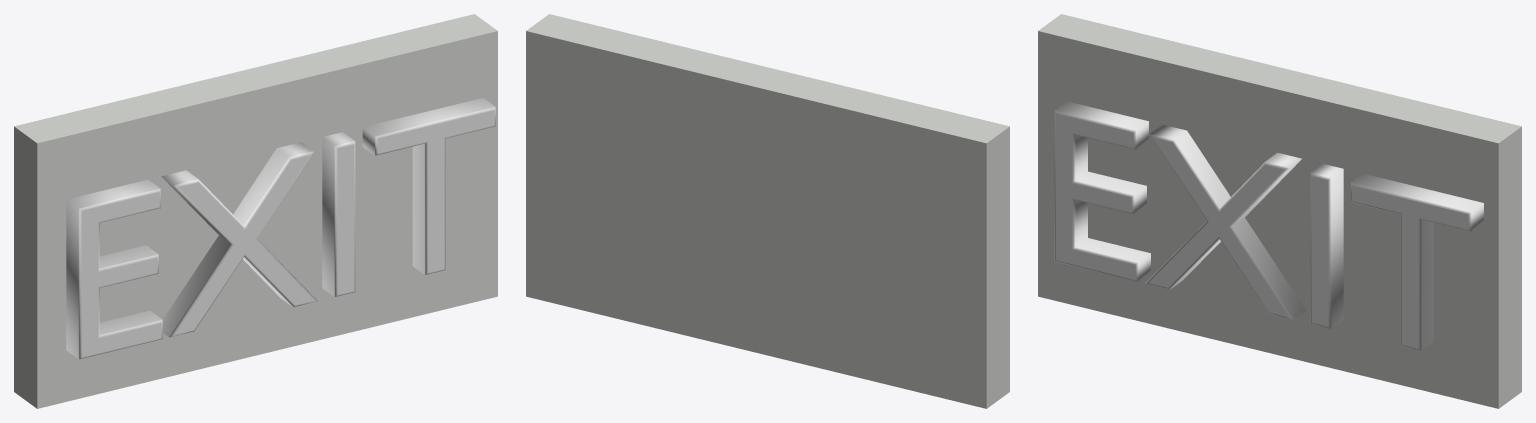
Rendered from ExitSign1.fbx.
The picture shows the model from 3 angles, left to right: view 1: azimuth 30°, elevation 25°; view 2: azimuth 150°, elevation 25°; view 3: azimuth 330°, elevation 25°; orthographic projection.
Parts seen in each view (by area): view 1: ExitSign1, Text; view 2: ExitSign1; view 3: ExitSign1, Text.
Part boxes in pixels (left/top/right/bottom): ExitSign1: left=14, top=14, right=497, bottom=408; Text: left=66, top=98, right=495, bottom=359; ExitSign1: left=526, top=14, right=1009, bottom=408; ExitSign1: left=1038, top=14, right=1521, bottom=408; Text: left=1054, top=101, right=1483, bottom=350.
Bounding box in the file's own units: 200 × 110 × 27.51.
